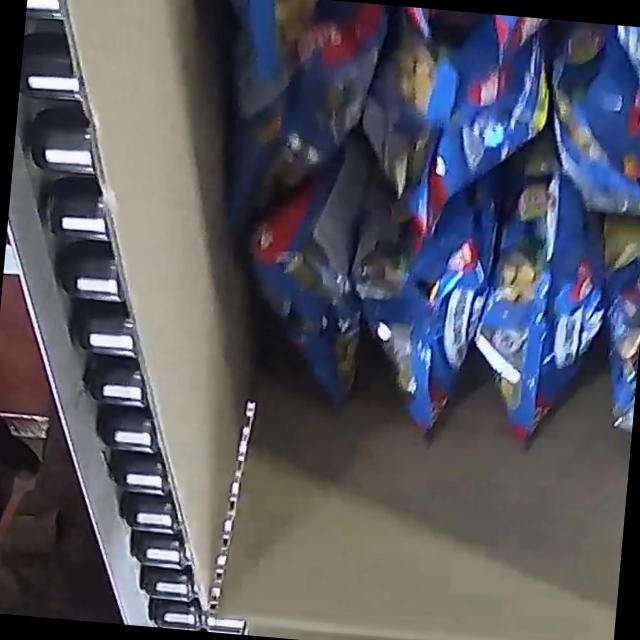paprika: (129, 0, 640, 494)
